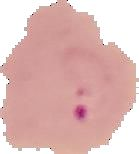parasitized: (52, 43, 119, 124)
